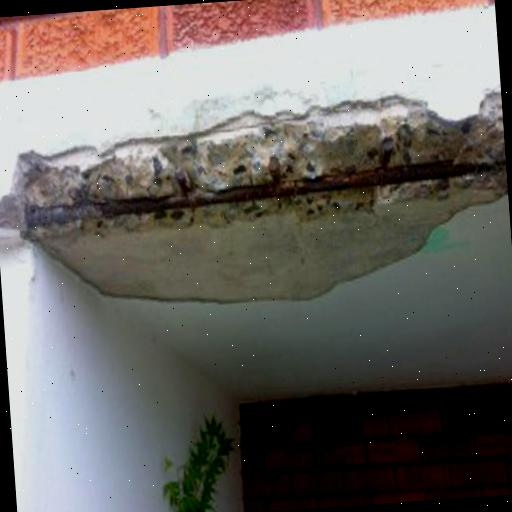spalling: (0, 88, 506, 308)
